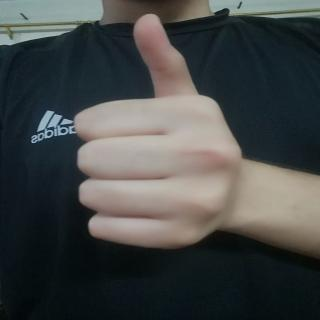ALIF: (66, 7, 254, 253)
